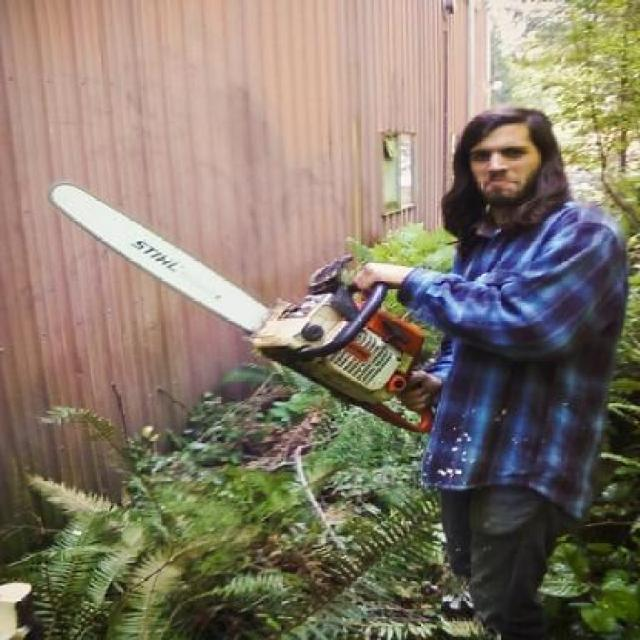Chainsaw: (43, 182, 449, 442)
